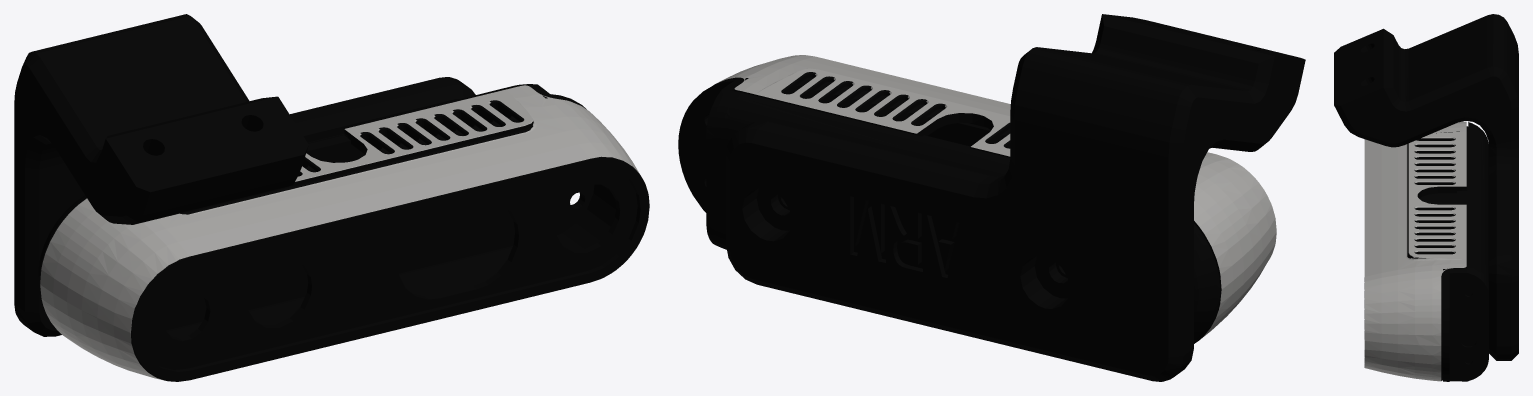
The model's file is right_realsense_link.usd.sapien.glb.
3 renders of one model, left to right at view 1: azimuth 30°, elevation 25°; view 2: azimuth 150°, elevation 25°; view 3: azimuth 270°, elevation 25°, orthographic. The views are drawn at different scales.
Parts seen in each view (by area): view 1: right_realsense_link; view 2: right_realsense_link; view 3: right_realsense_link.
Boxes of the visible parts, <box> form: right_realsense_link: <box>14,14,649,381</box>; right_realsense_link: <box>678,14,1305,381</box>; right_realsense_link: <box>1334,14,1518,381</box>.
Bounding box in the file's own units: 0.0899 × 0.0455 × 0.0372.
Materials: 1 (1 with a texture image).
